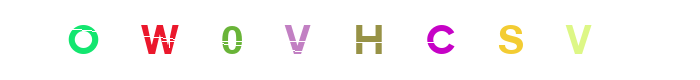0: (253, 0, 333, 80)
C: (399, 0, 479, 80)
H: (311, 0, 391, 80)
O: (43, 0, 123, 80)
S: (458, 0, 538, 80)
V: (274, 0, 354, 80), (471, 0, 551, 80)
W: (119, 0, 199, 80)
